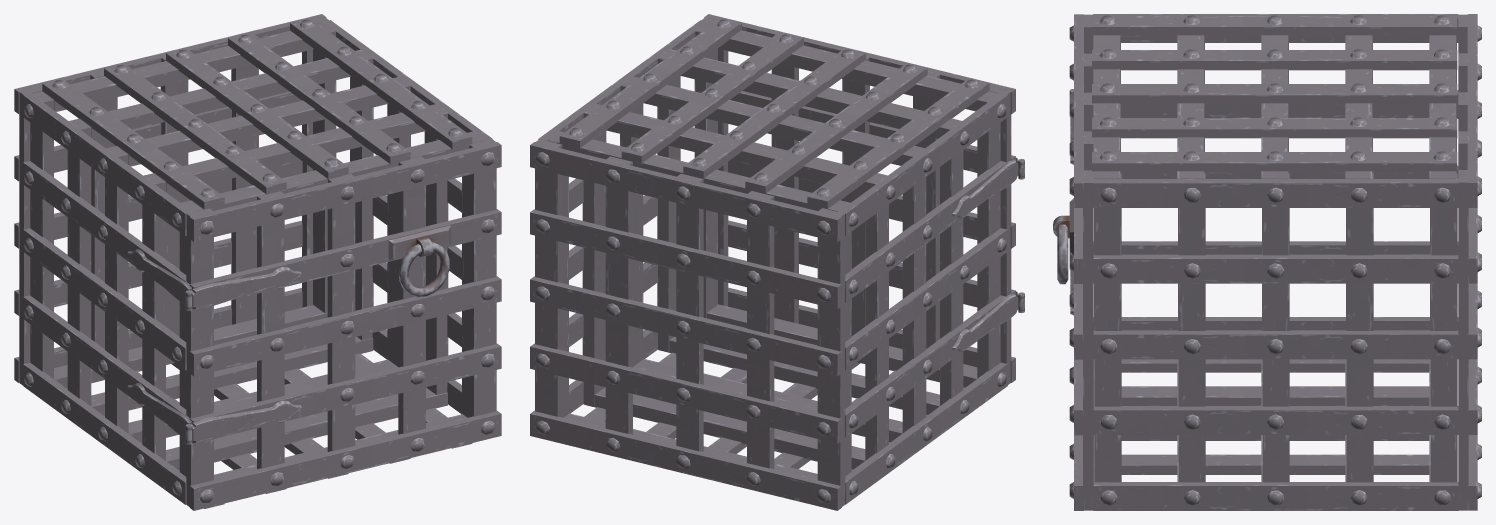
File: Cage_Small.gltf
3 renders of one model, left to right at view 1: azimuth 30°, elevation 25°; view 2: azimuth 150°, elevation 25°; view 3: azimuth 270°, elevation 25°, orthographic. The views are drawn at different scales.
Parts seen in each view (by area): view 1: Cage_Small; view 2: Cage_Small; view 3: Cage_Small.
Part boxes in pixels (x1,y1,x2,y2): Cage_Small: (14, 14, 501, 510); Cage_Small: (530, 14, 1024, 510); Cage_Small: (1053, 14, 1481, 510).
Bounding box in the file's own units: 0.8549 × 0.8052 × 0.8843.
Materials: 1 (1 with a texture image).
